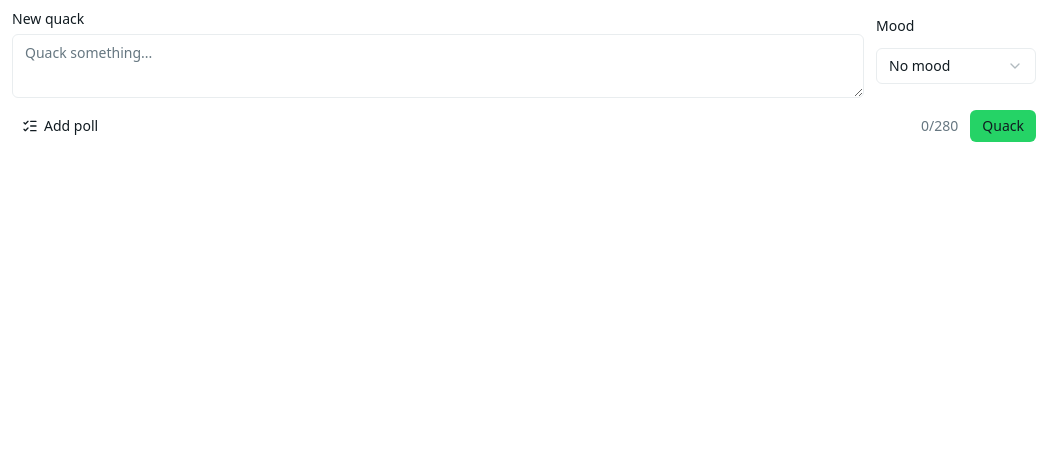
Test: QuackForm poll › puts an empty option's error on that option and moves the cursor there
The width and height of the screenshot is (1048, 457).
Type "Lunch?" into the text box labelled "New quack".
click(438, 66); type("Lunch?")  # box [12,34,864,98]
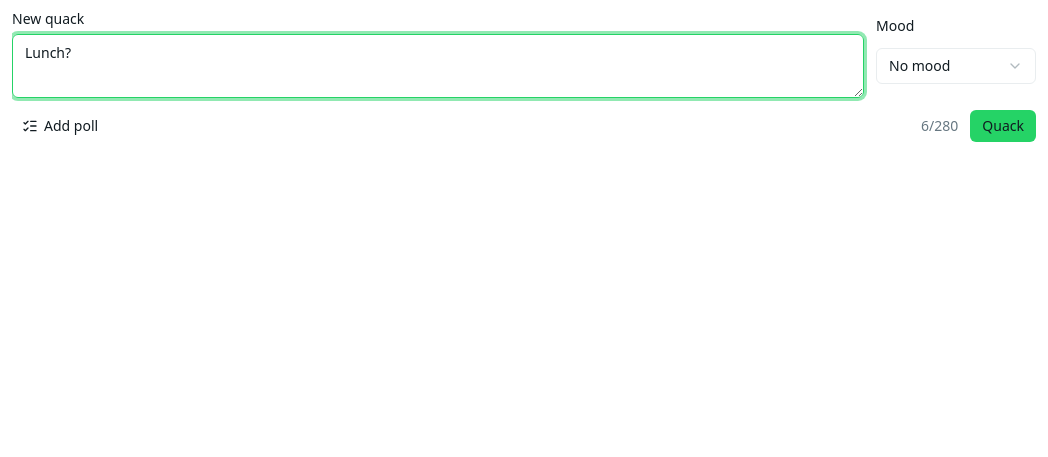
Click the button "Add poll".
click(60, 126)  # box [12,110,108,142]
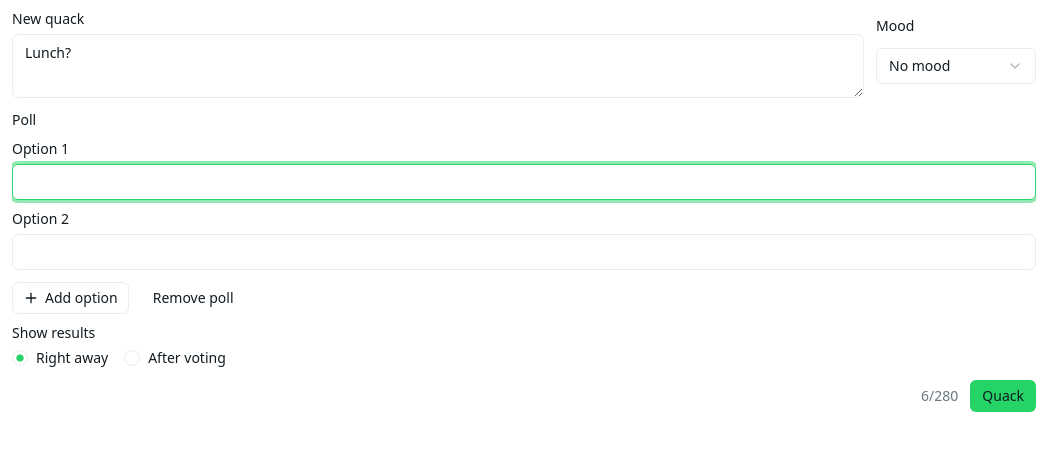
Type "Café" into the field labelled "Option 1".
click(524, 182); type("Café")  # box [12,164,1036,200]
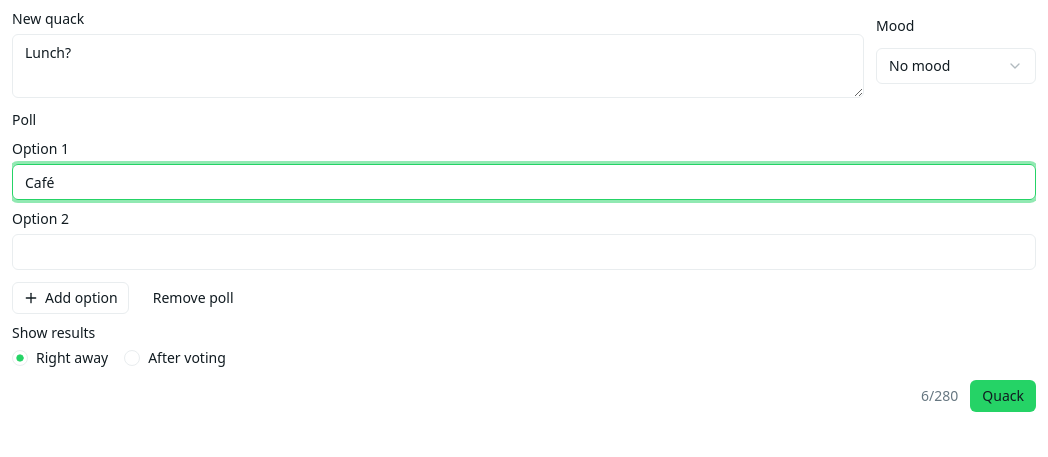
Click the button "Quack".
click(1003, 396)  # box [970,380,1036,412]
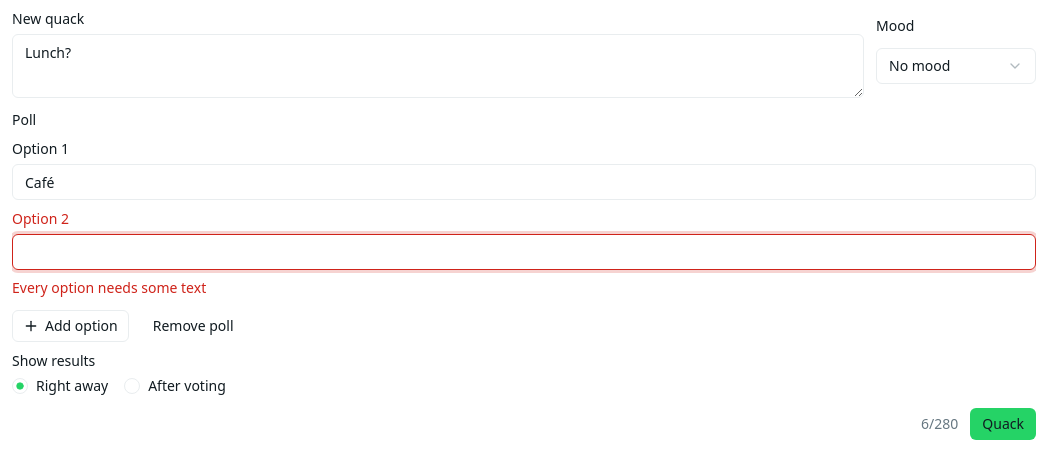
Check: the text "Every option needs some text" is shown, box [12,278,206,297]
